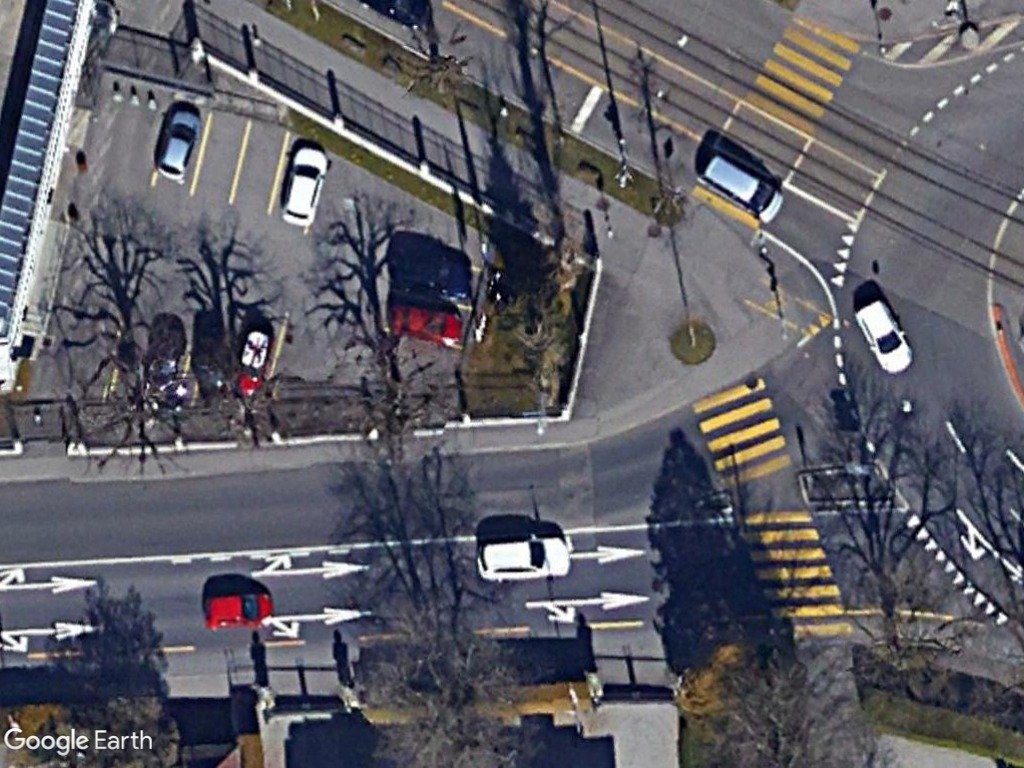car: (690, 148, 790, 226), (472, 534, 577, 585), (855, 296, 918, 378), (277, 142, 333, 229), (152, 104, 209, 185), (202, 587, 276, 636)
